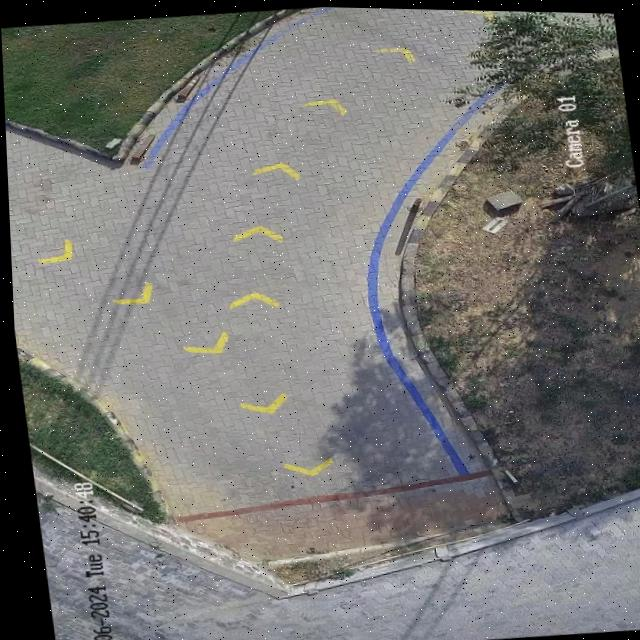No Car: (1, 5, 640, 640)
